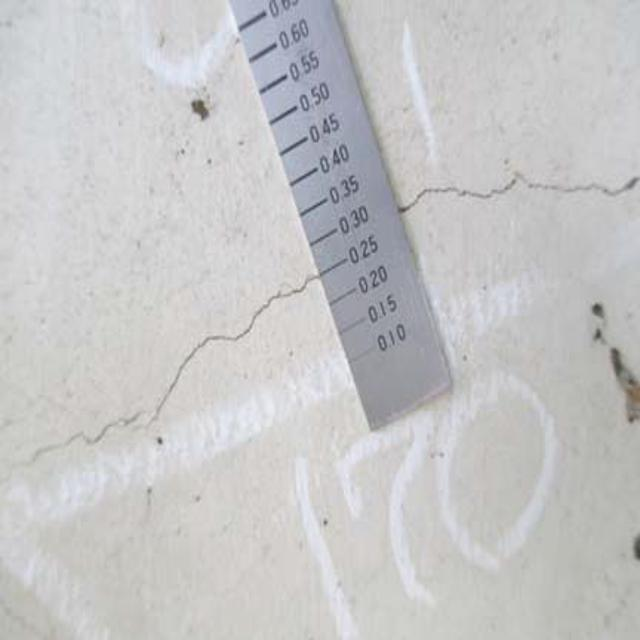crack: (10, 264, 319, 492), (373, 134, 640, 242)
